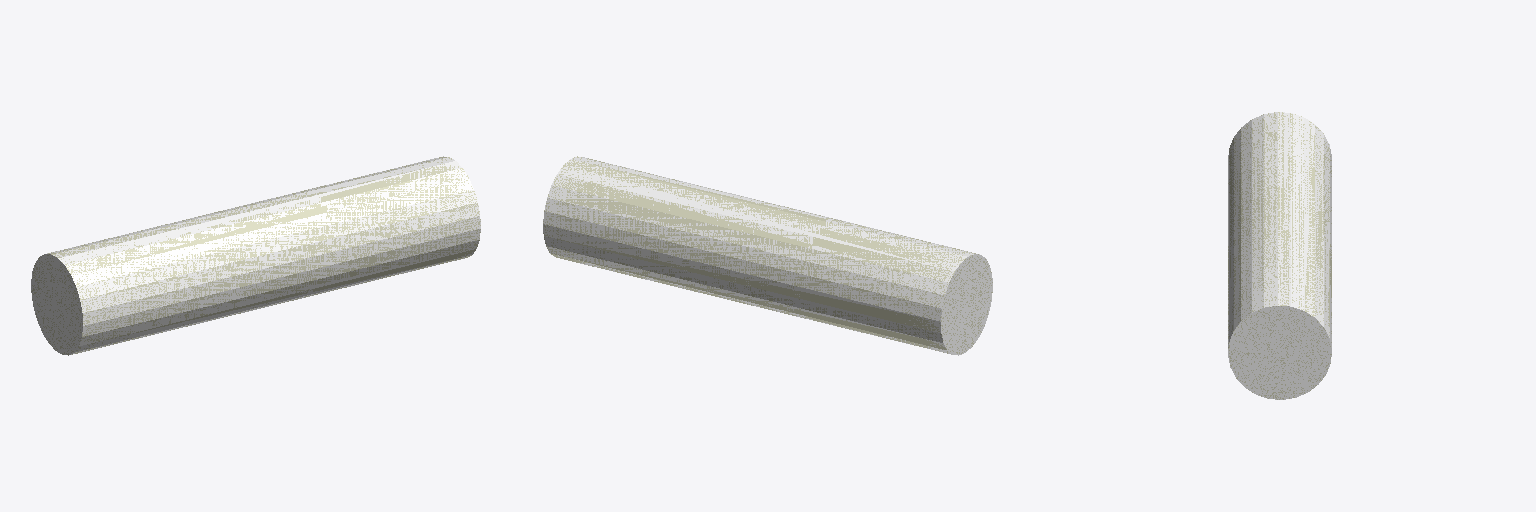
Rendered from original-2.obj.
The picture shows the model from 3 angles: view 1: azimuth 30°, elevation 25°; view 2: azimuth 150°, elevation 25°; view 3: azimuth 270°, elevation 25°; orthographic projection.
Visible parts, largest first — view 1: mesh2/mesh2-geometry#mesh2-geometry; view 2: mesh2/mesh2-geometry#mesh2-geometry; view 3: mesh2/mesh2-geometry#mesh2-geometry.
Boxes of the visible parts, x1,y1,x2,y2 form: mesh2/mesh2-geometry#mesh2-geometry: [31, 156, 480, 355]; mesh2/mesh2-geometry#mesh2-geometry: [543, 156, 992, 355]; mesh2/mesh2-geometry#mesh2-geometry: [1228, 112, 1331, 399].
Size of the model in its own units: 0.0746 by 0.017 by 0.0169.